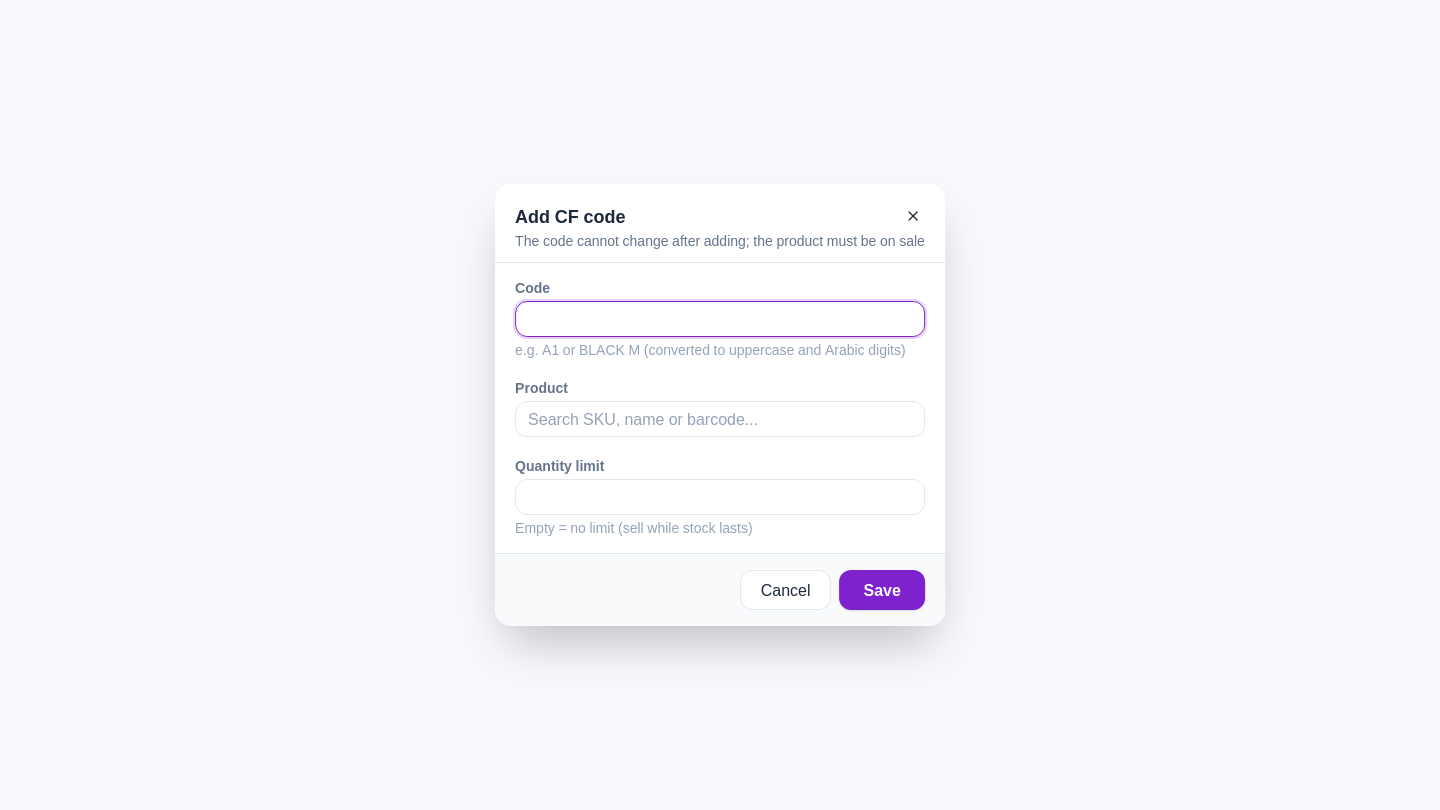
ItemFormDialog › ບໍ່ເລືອກສິນຄ້າ, ລະຫັດມີ , ແລະ limit ບໍ່ແມ່ນຈຳນວນເຕັມ: error ແລະ ບໍ່ສົ່ງ
Type "A,1" into the field labelled "Code".
click(720, 319); type("A,1")  # box [515,301,925,337]
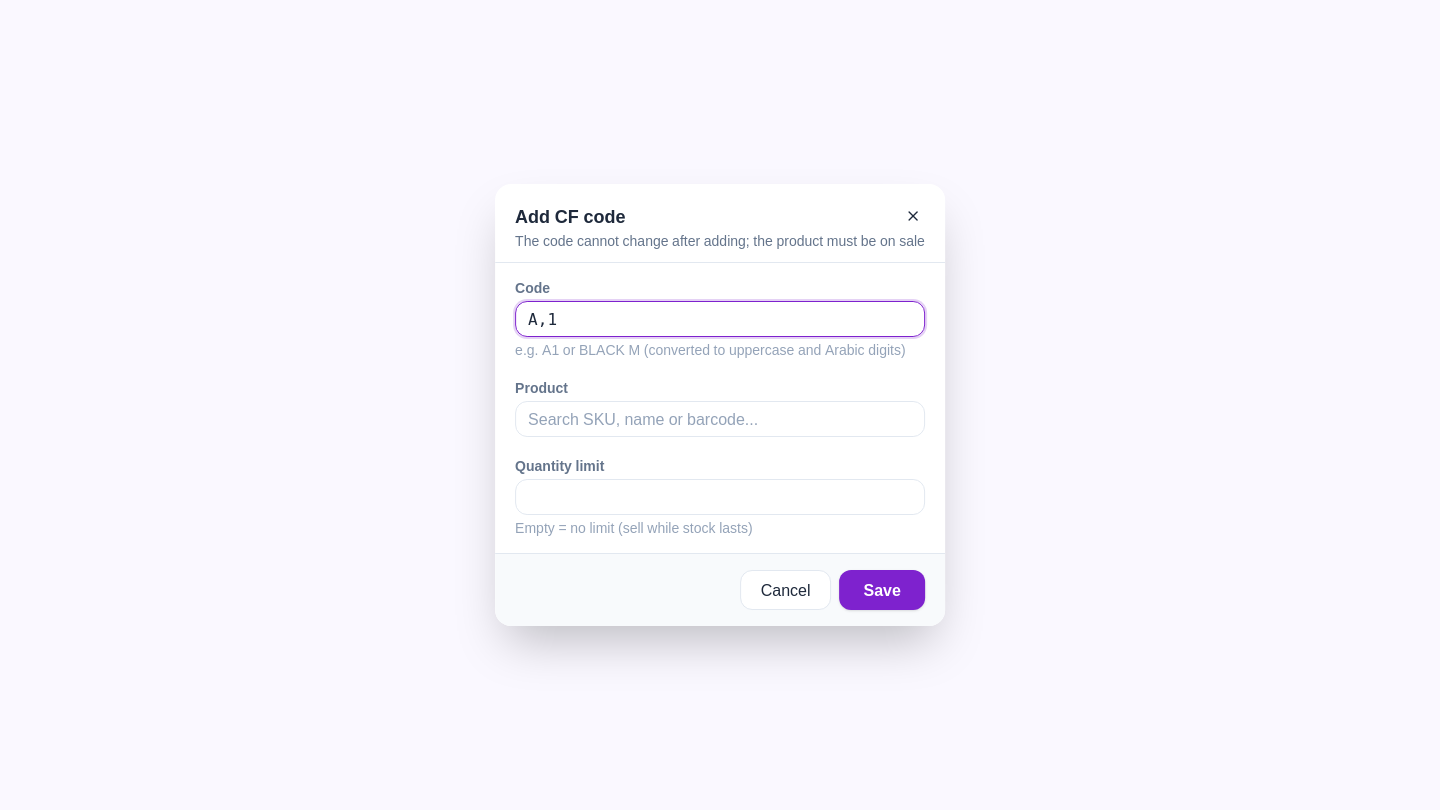
Type "1.5" into the number field labelled "Quantity limit".
click(720, 497); type("1.5")  # box [515,479,925,515]
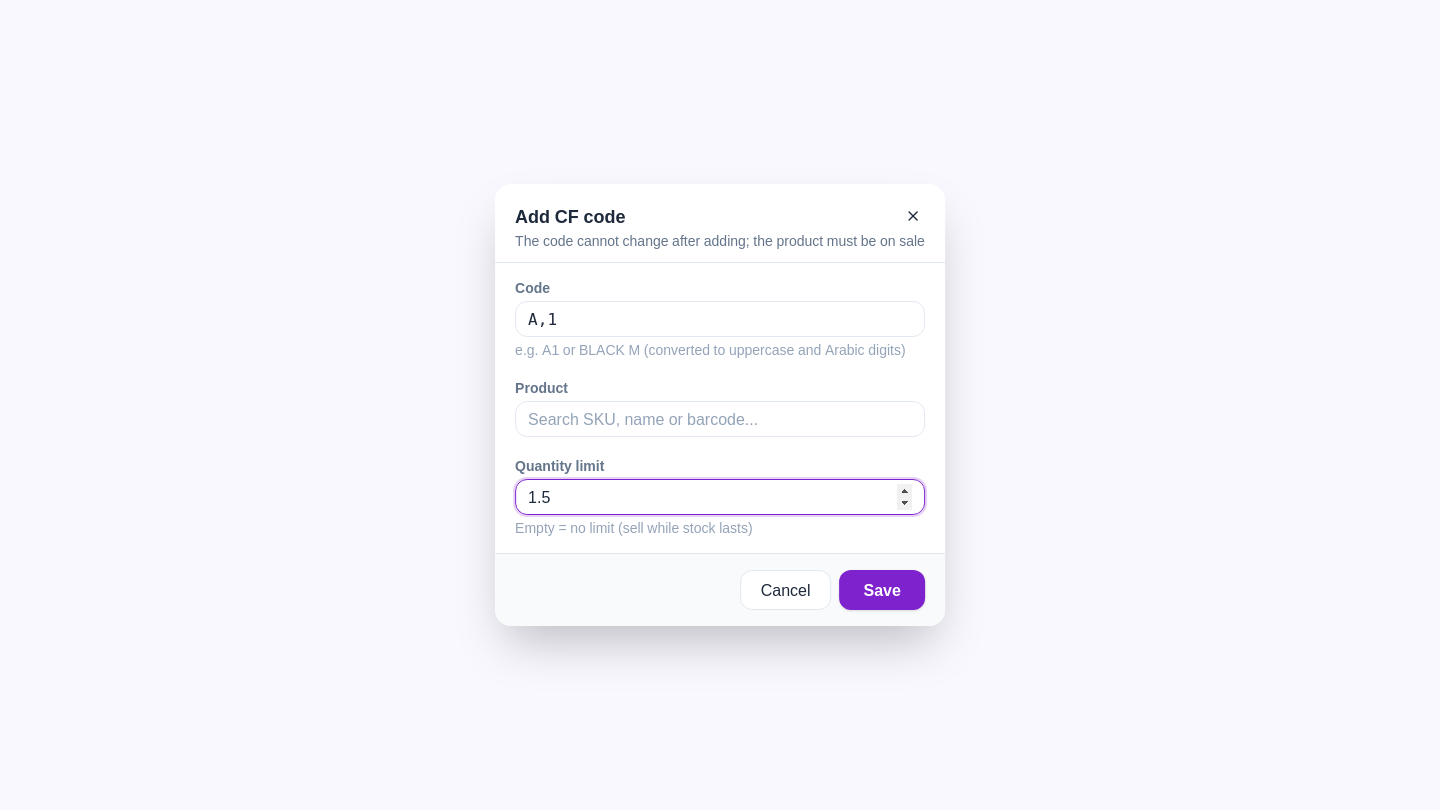
Click the button "Save".
click(882, 590)  # box [840,570,925,610]
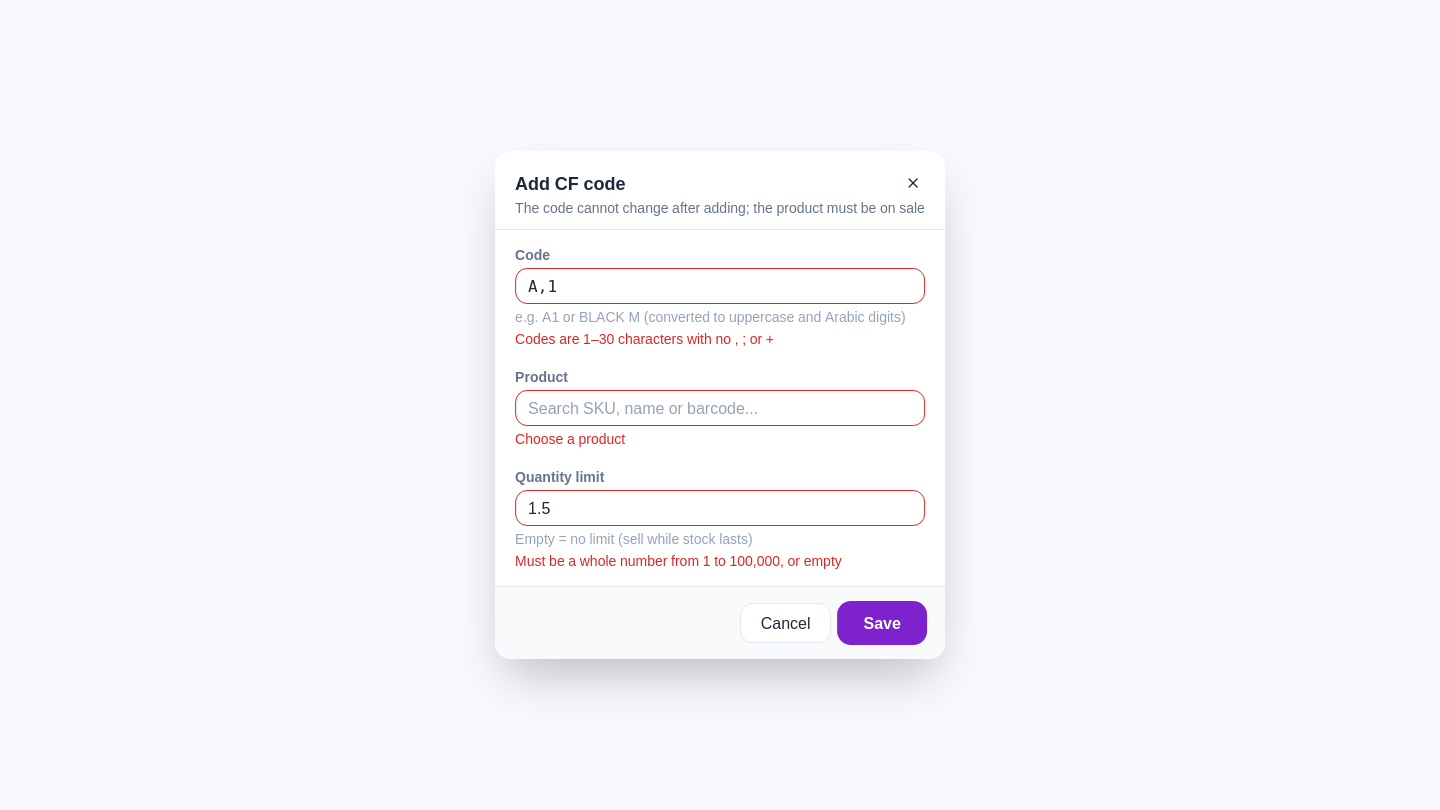
Now the text "Codes are 1–30 characters with no , ; or +" is shown, box [515,327,774,350]
Now the text "Choose a product" is shown, box [515,427,625,450]
Now the text "Must be a whole number from 1 to 100,000, or empty" is shown, box [515,549,842,572]
